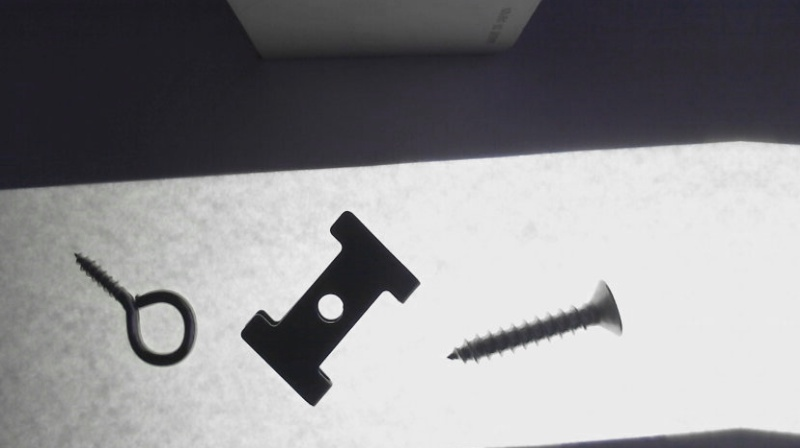O001: (72, 251, 199, 369)
O002: (238, 205, 417, 407)
S001: (445, 276, 624, 366)
